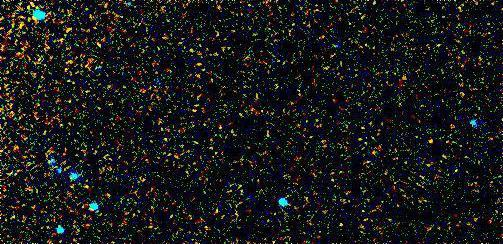star: (412, 126, 442, 156)
